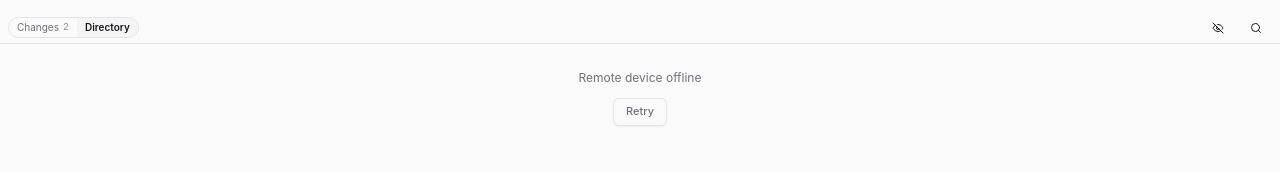
FilesPanel directory mode › surfaces a remote-offline failure with a retry that re-requests
Check: the text "Remote device offline" is shown, box [578, 70, 701, 85]
Step 1. Click the button "Retry" → coordinates (640, 112), box [613, 98, 667, 126]
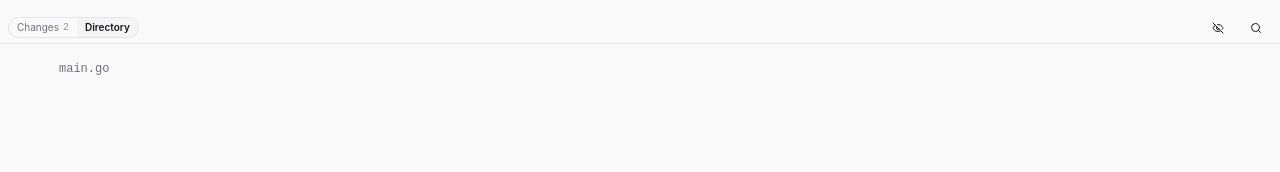
Check: the text "main.go" is shown, box [59, 60, 109, 76]
